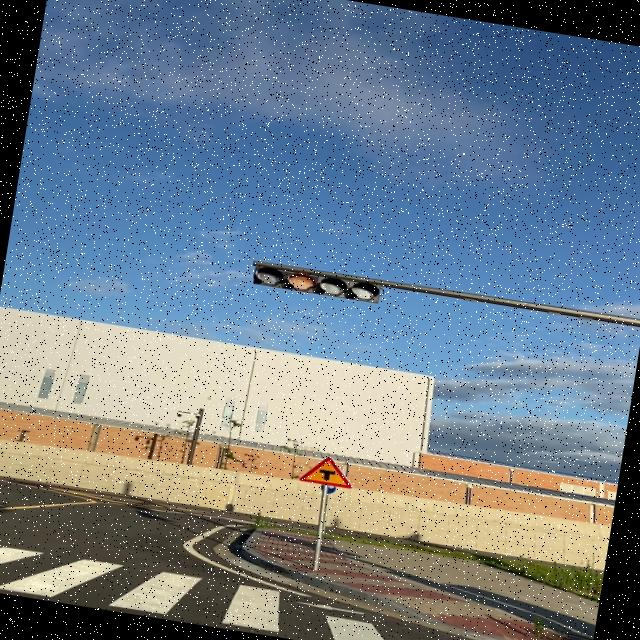yellow_light: (255, 264, 382, 304)
